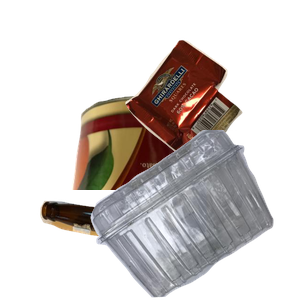glass: (37, 198, 236, 300)
metal: (69, 93, 265, 273)
plastic: (88, 130, 300, 300)
trash: (123, 37, 300, 192)
